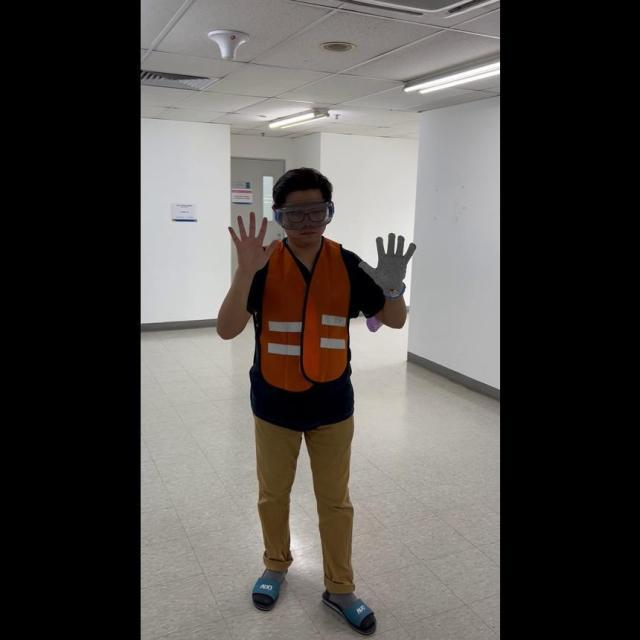bare_hand: (226, 208, 276, 270)
gloved_hand: (358, 230, 416, 298)
